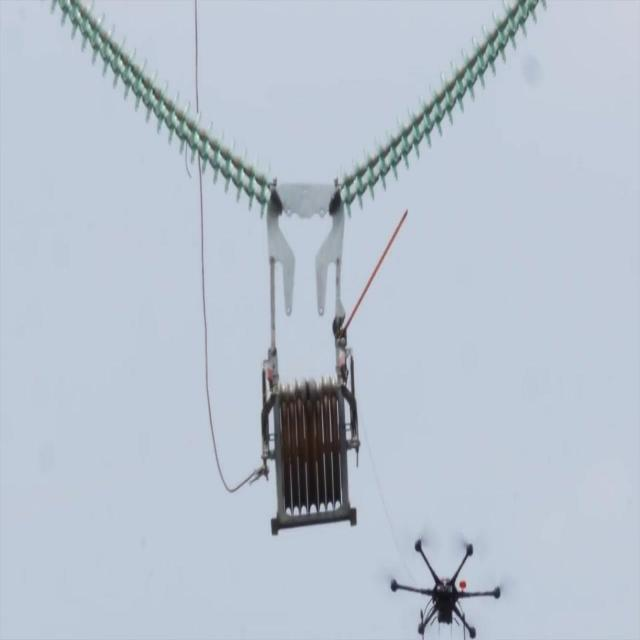UAV: (389, 531, 501, 640)
